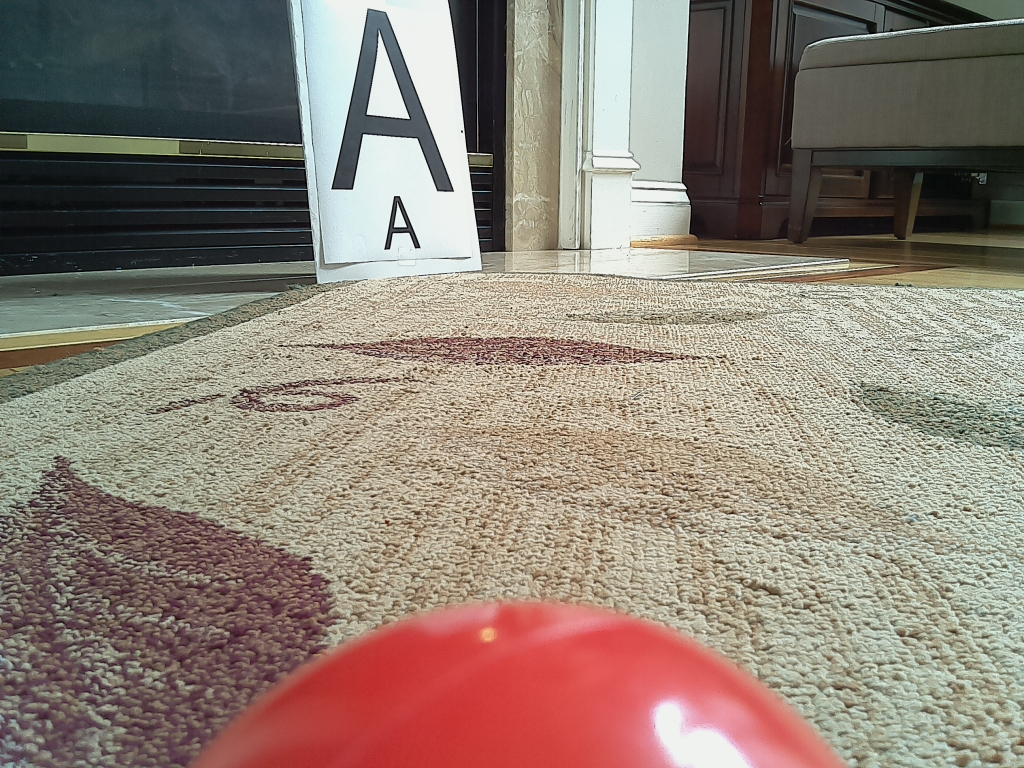letter: (330, 9, 458, 192)
